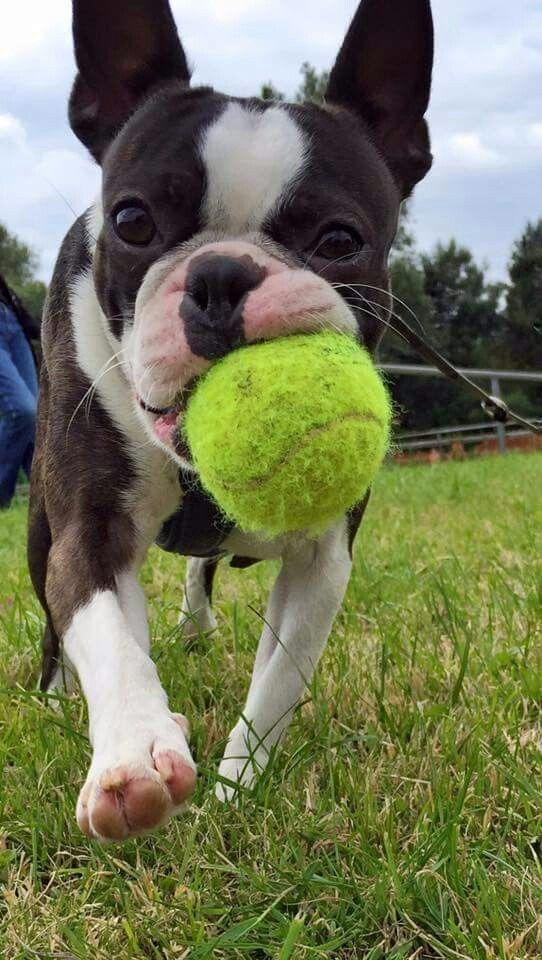adult_dog: (22, 1, 438, 844)
